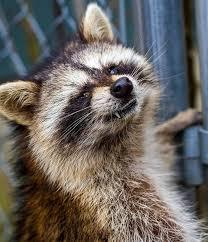raccoon: (1, 3, 177, 242)
